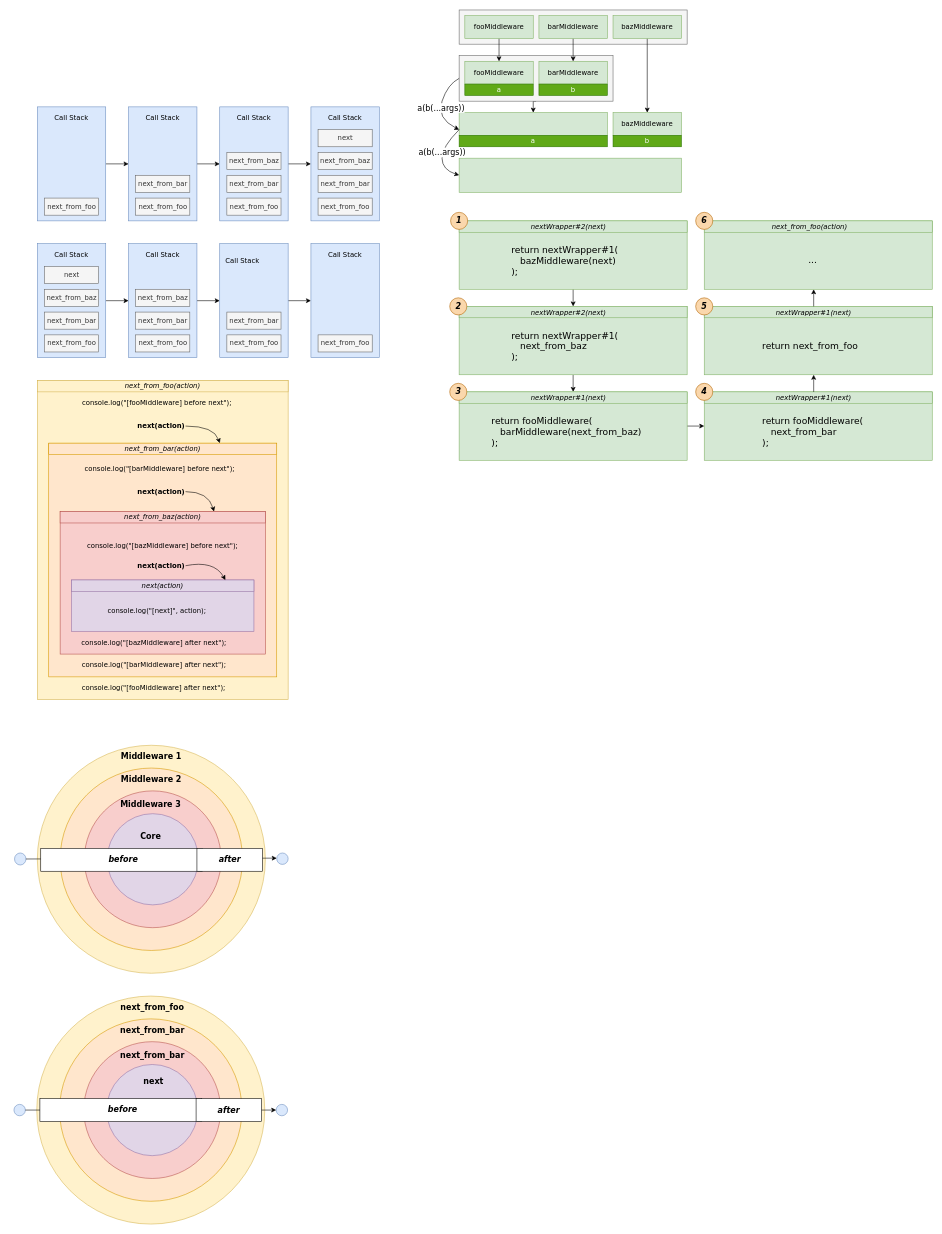
Image size: 942x1234. Some labels were removed from this diagram. The box of each missing label's shape, as (x1, y1, x2, y2) in pixels:
nextWrapper#1: (459, 112, 607, 135)
nextWrapper#2: (459, 158, 681, 192)
